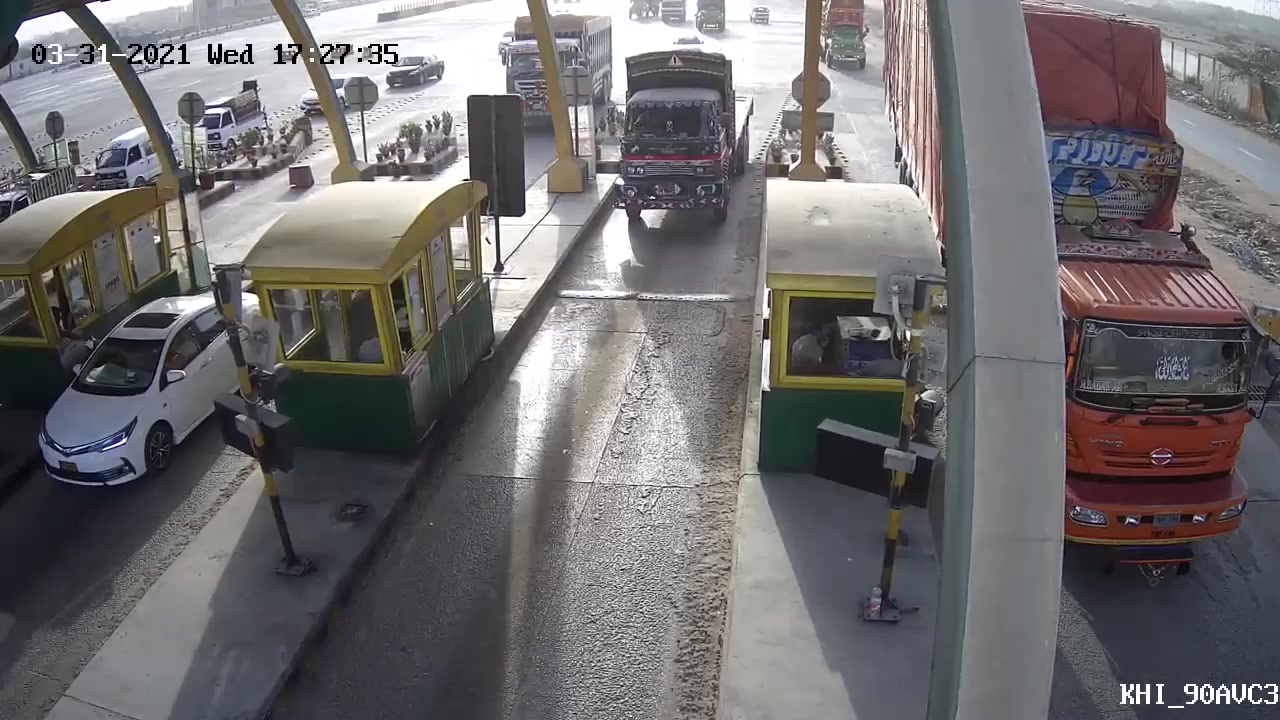F5: (608, 49, 752, 226)
